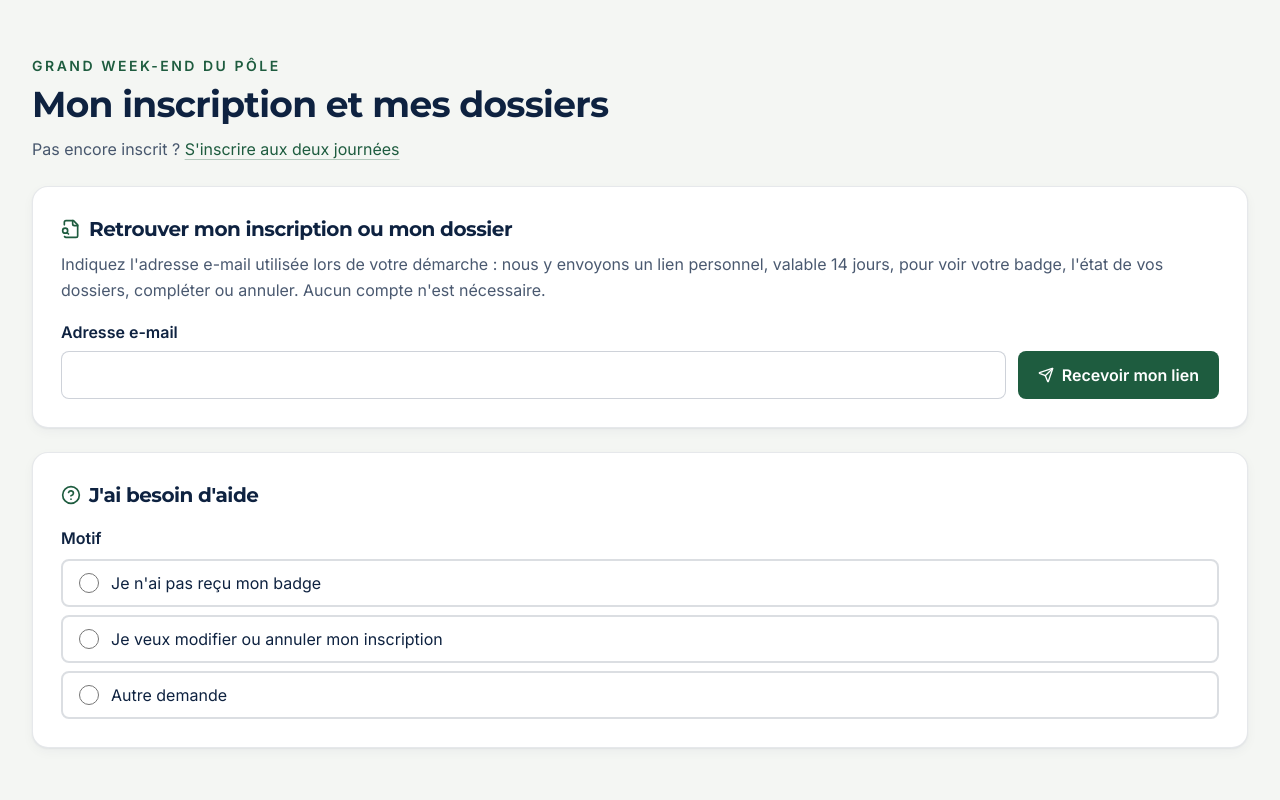
Test case: Suivi des dossiers sans compte › envoie le lien personnel avec la même réponse pour toute adresse
The image size is (1280, 800).
Type "a@x.org" into the field labelled "Adresse e-mail" at (533, 375), box x1=61 y1=351 x2=1006 y2=399
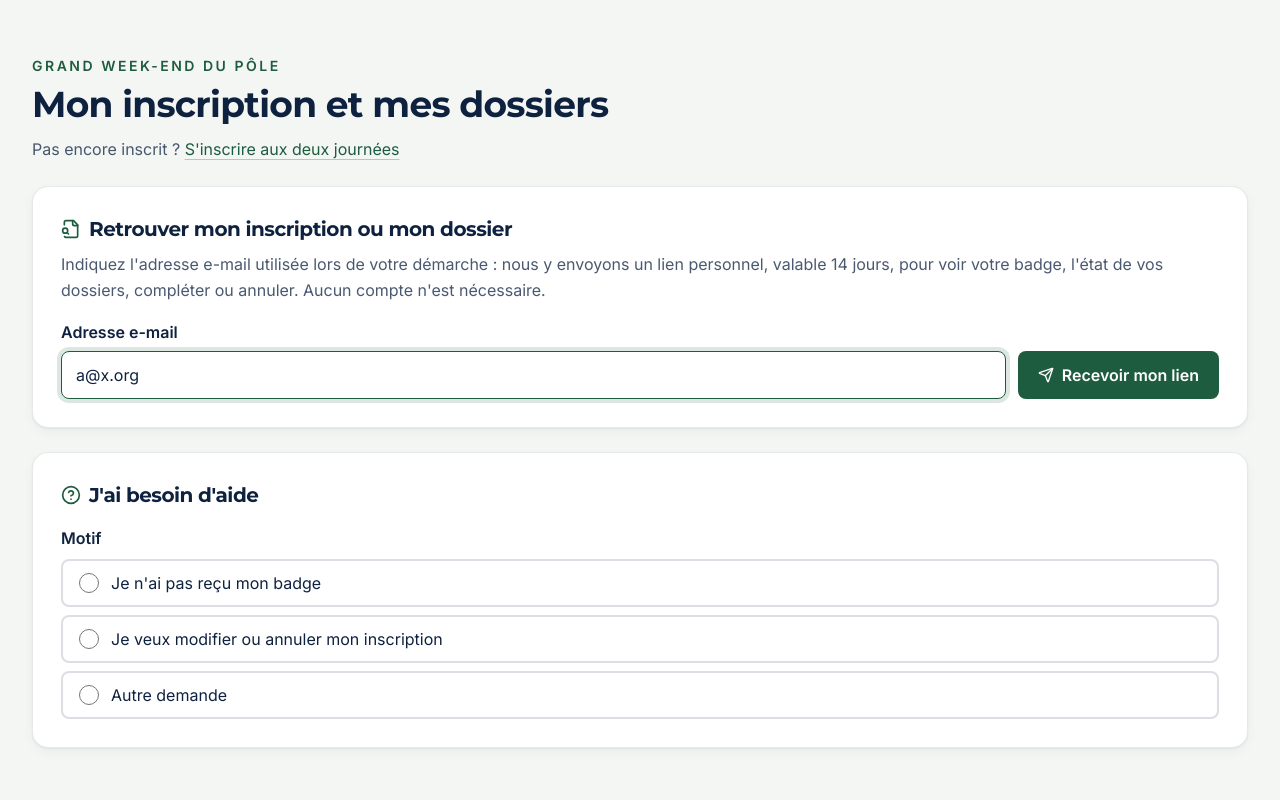
Click the button "Recevoir mon lien" at (1118, 375), box x1=1018 y1=351 x2=1219 y2=399
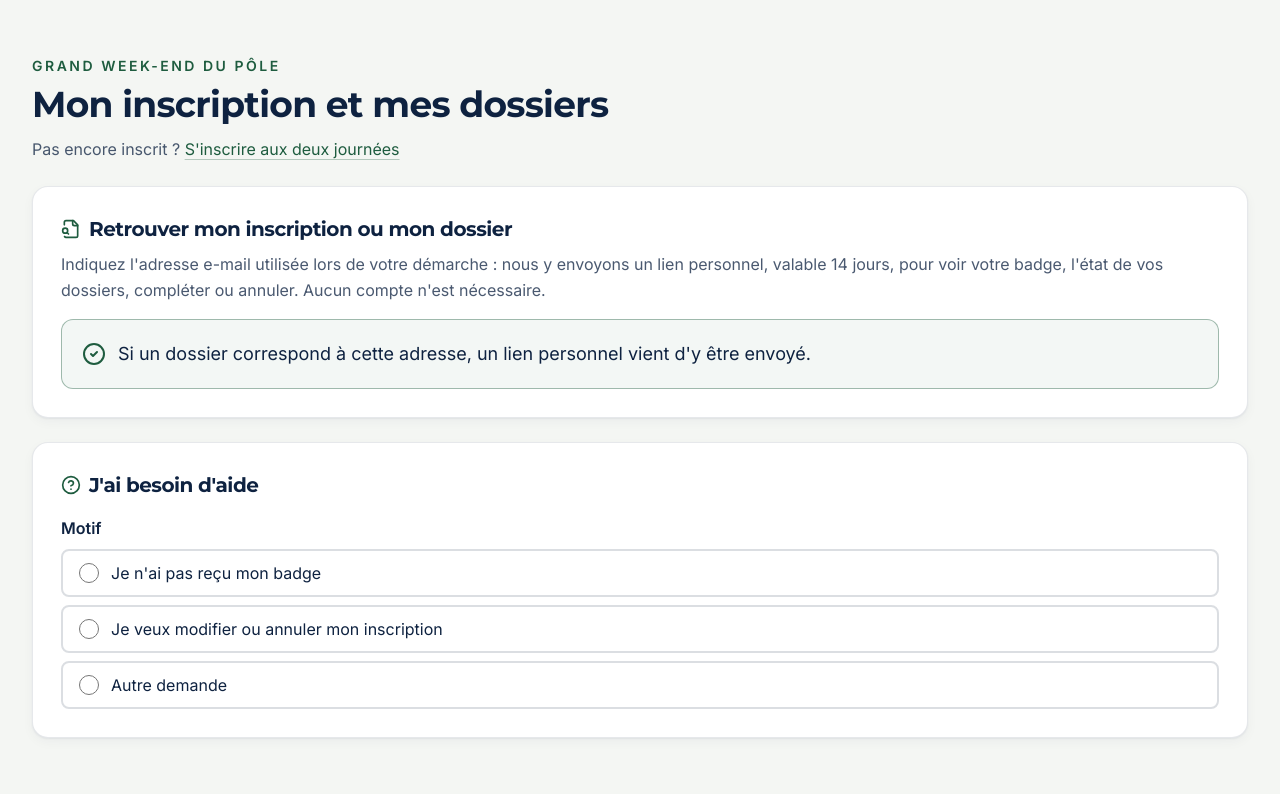
Check: the text "un lien personnel vient d'y être envoyé" is shown, box x1=118 y1=343 x2=811 y2=364
